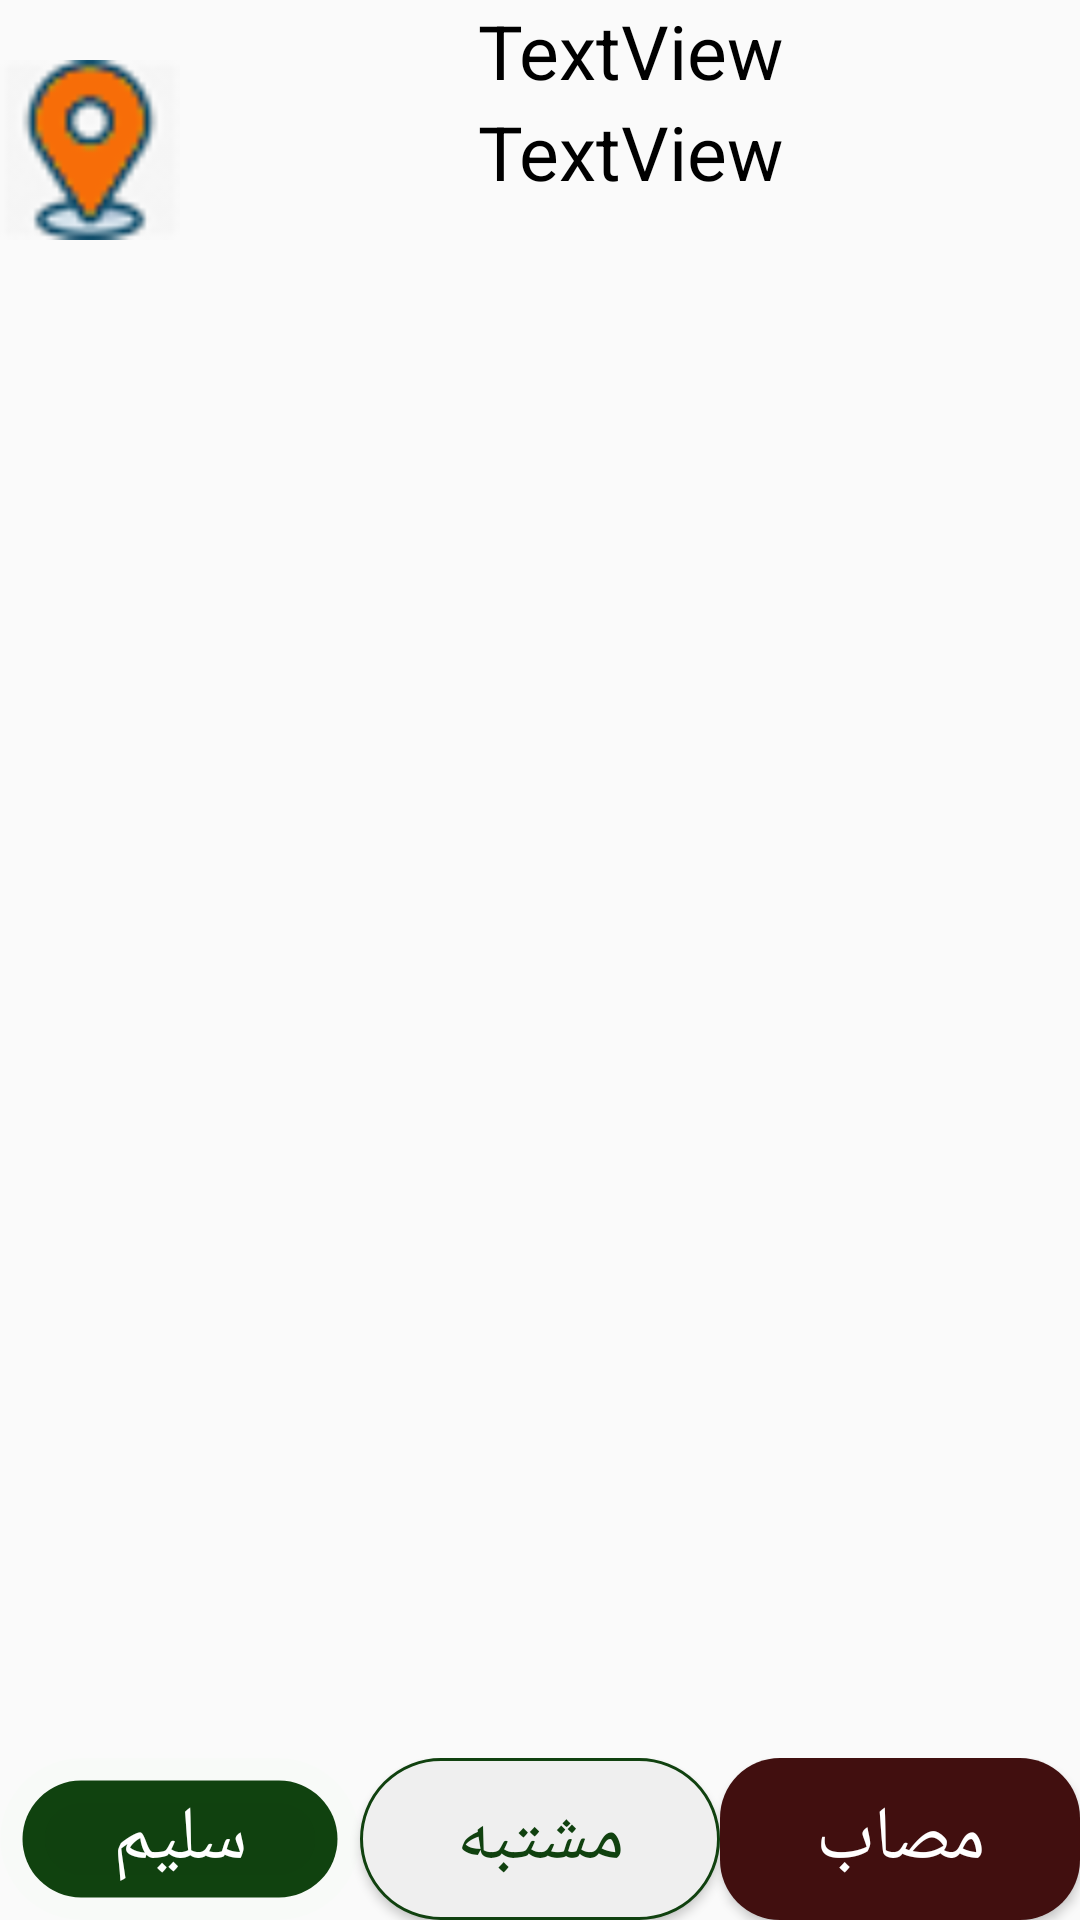

Point at icon controls on the screen. Image size 1080w x 1920h, points as point (x, y).
loc: point (90, 150)
